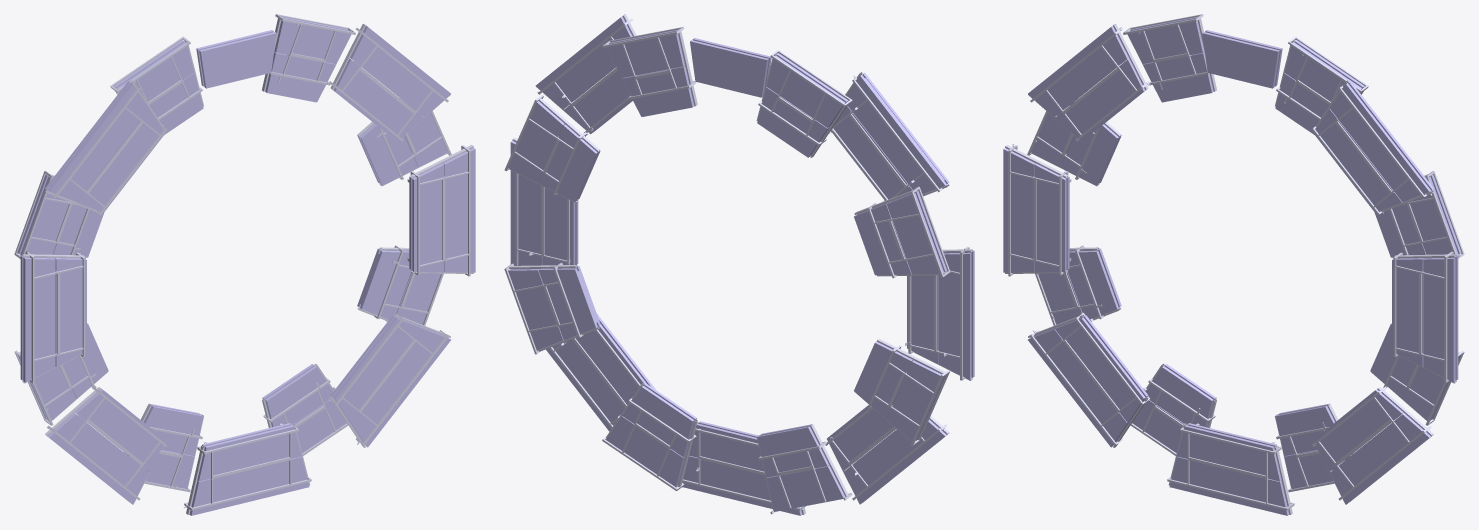
The model's file is Extra-Wheel-SideA.glb.
3 renders of one model, left to right at view 1: azimuth 30°, elevation 25°; view 2: azimuth 150°, elevation 25°; view 3: azimuth 330°, elevation 25°, orthographic.
Parts seen in each view (by area): view 1: null; view 2: null; view 3: null.
Part boxes in pixels (x1,y1,x2,y2): null: (14, 14, 475, 515); null: (504, 14, 974, 515); null: (1003, 14, 1464, 515).
Bounding box in the file's own units: 17.93 × 17.54 × 1.54.
